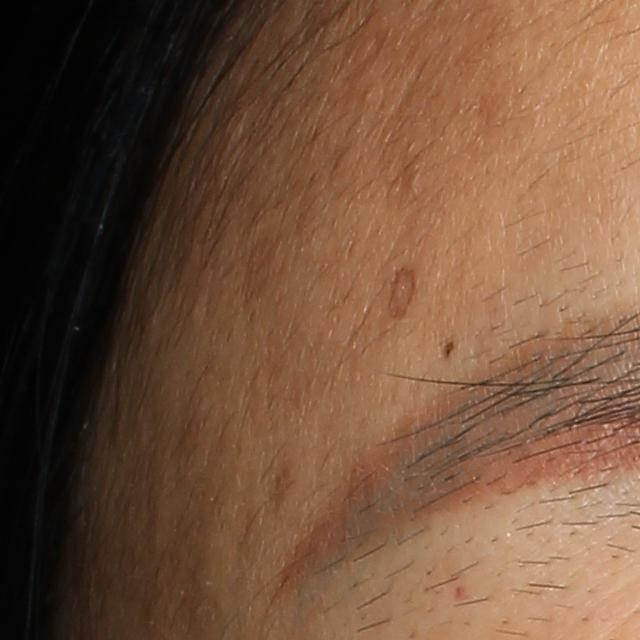nevus: (439, 337, 461, 362)
other: (386, 265, 416, 319)
